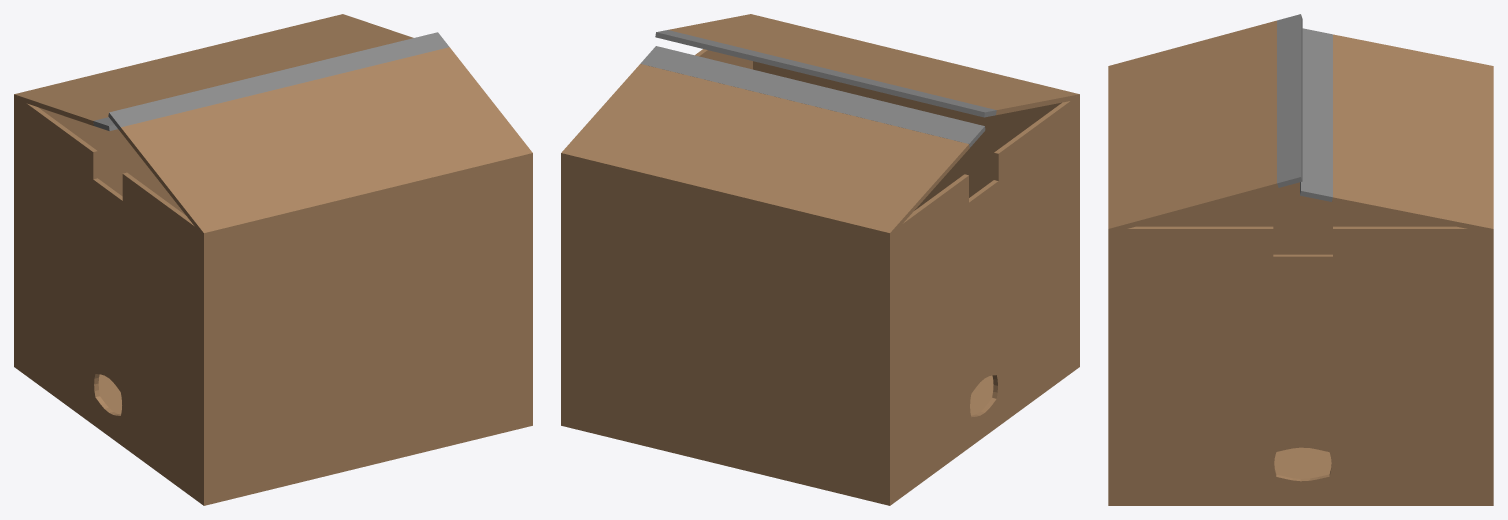
The picture shows the model from 3 angles, left to right: view 1: azimuth 30°, elevation 25°; view 2: azimuth 150°, elevation 25°; view 3: azimuth 270°, elevation 25°; orthographic projection.
Parts seen in each view (by area): view 1: Cube.005; view 2: Cube.005; view 3: Cube.005.
Boxes of the visible parts, x1,y1,x2,y2 form: Cube.005: (14,14,532,505); Cube.005: (561,14,1079,505); Cube.005: (1108,14,1493,505).
Size of the model in its own units: 144 by 136 by 144.
